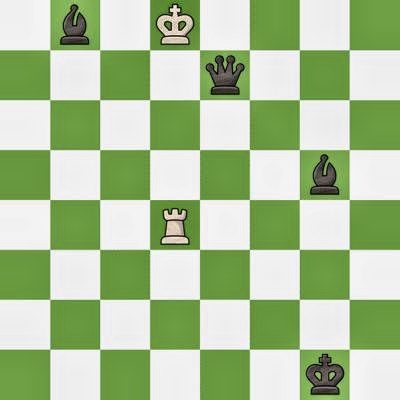black-bishop: (50, 0, 100, 50), (300, 150, 350, 200)
black-king: (300, 350, 350, 400)
black-queen: (200, 50, 250, 100)
white-king: (150, 0, 200, 50)
white-rook: (150, 200, 200, 250)
